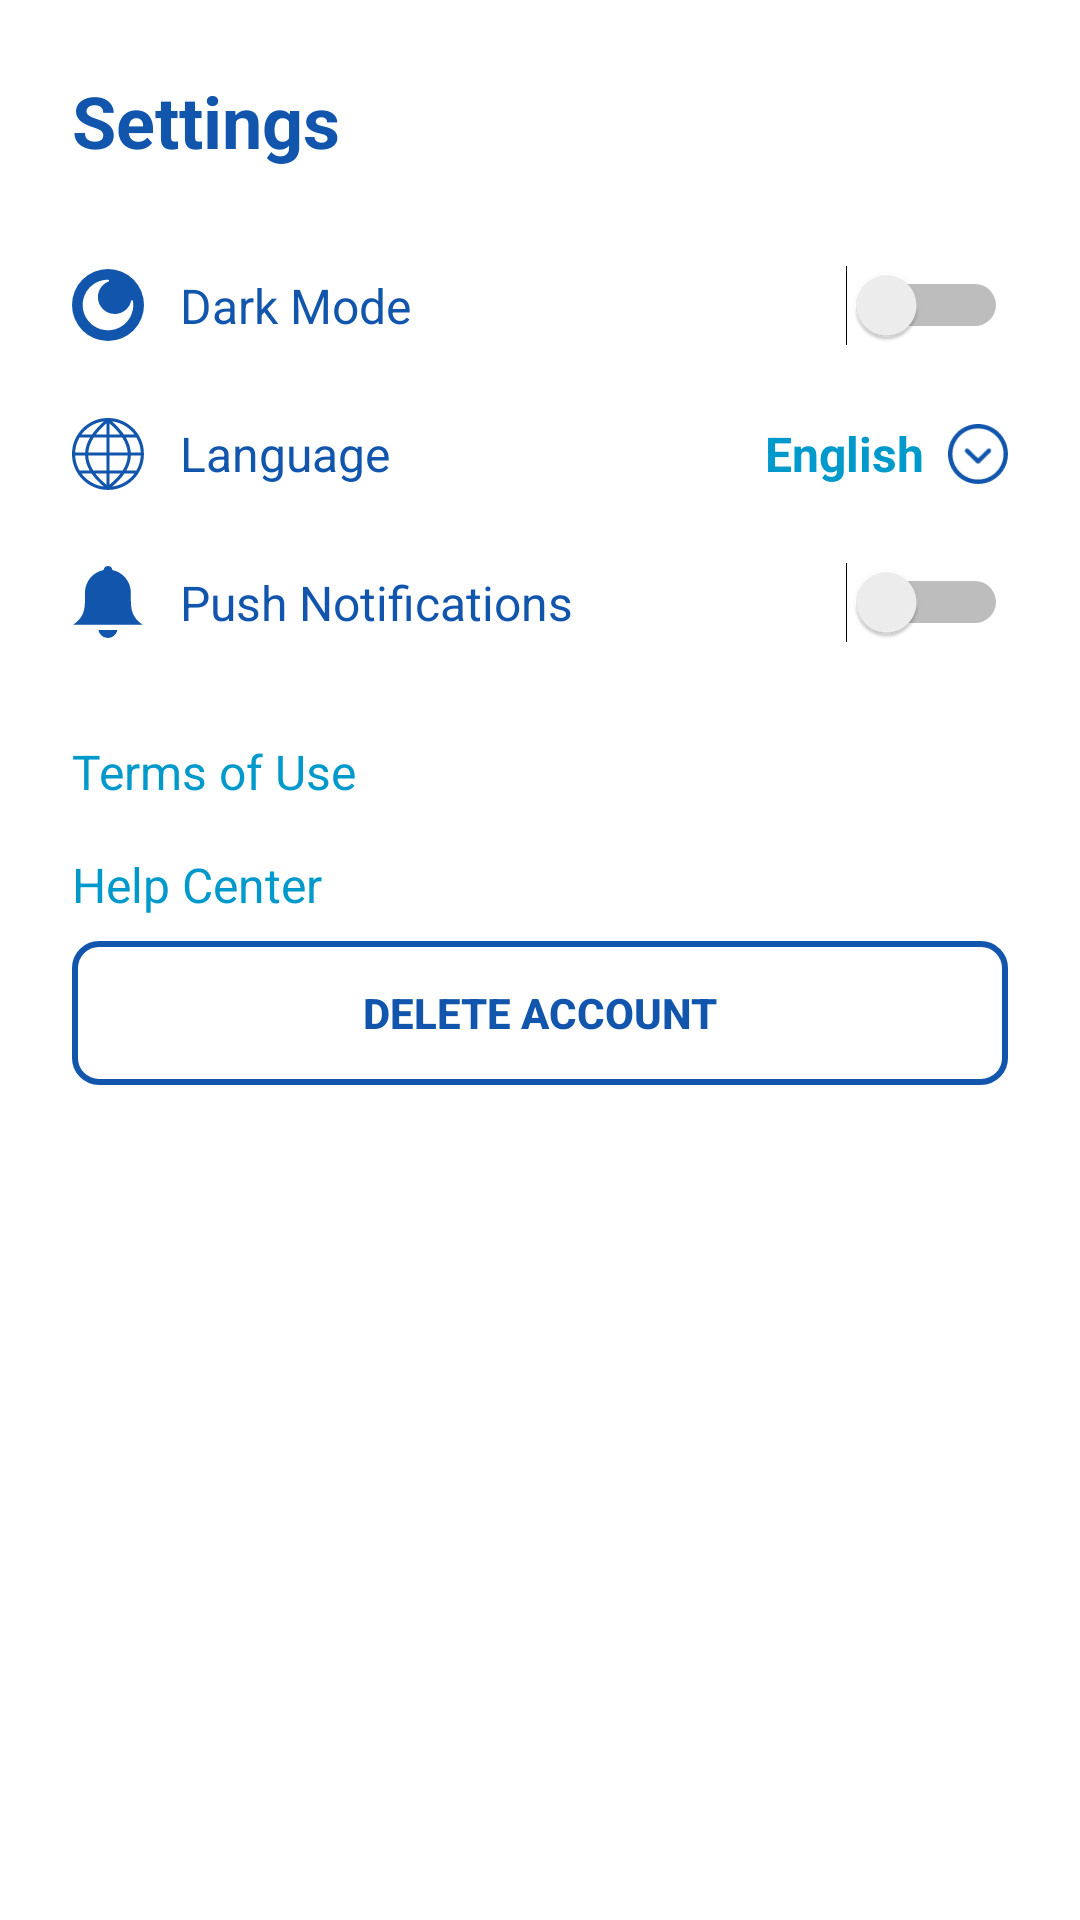

Screen size 1080 x 1920. Icon name, then its box in pixels as (x1, y1, x2, y2):
arrow: (948, 424, 1008, 484)
bell: (73, 566, 143, 638)
globus: (72, 418, 144, 490)
moon: (72, 269, 144, 341)
